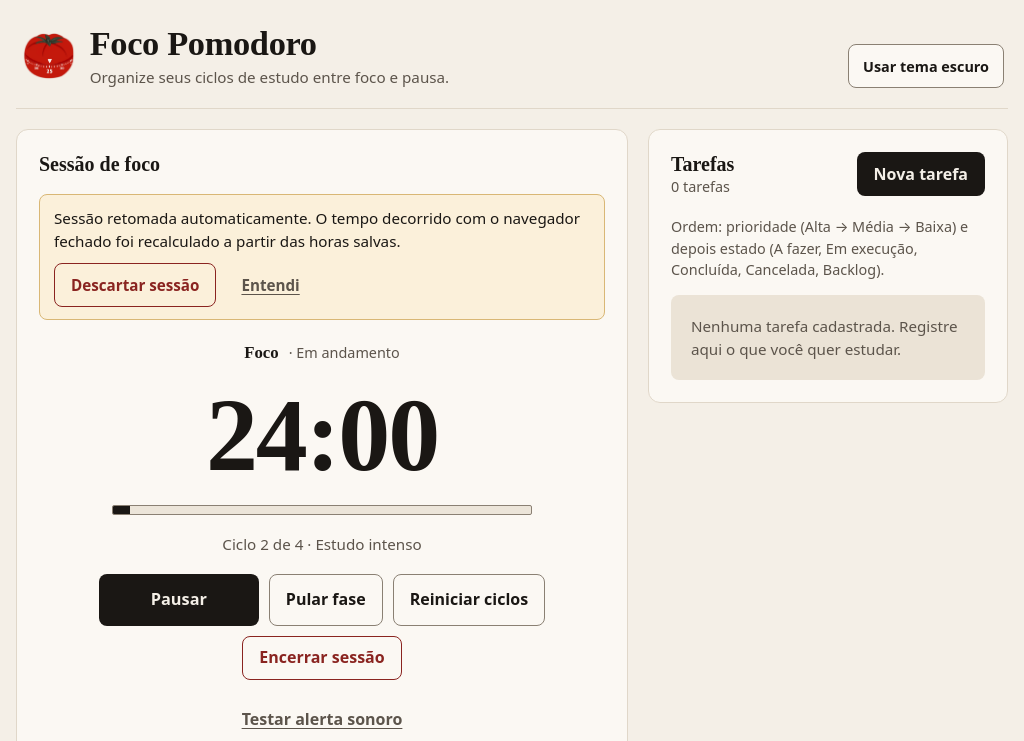
Test: retomada automática e descarte (UC10, UC11, RN-06, RN-07, R-03) › descartar sessão retomada exige confirmação e remove a sessão sem histórico
The image size is (1024, 741).
What coordinates should you click on to do the following:
click the button "Descartar sessão"
I would click on:
 (135, 285)
Its box is left=54, top=263, right=216, bottom=307.
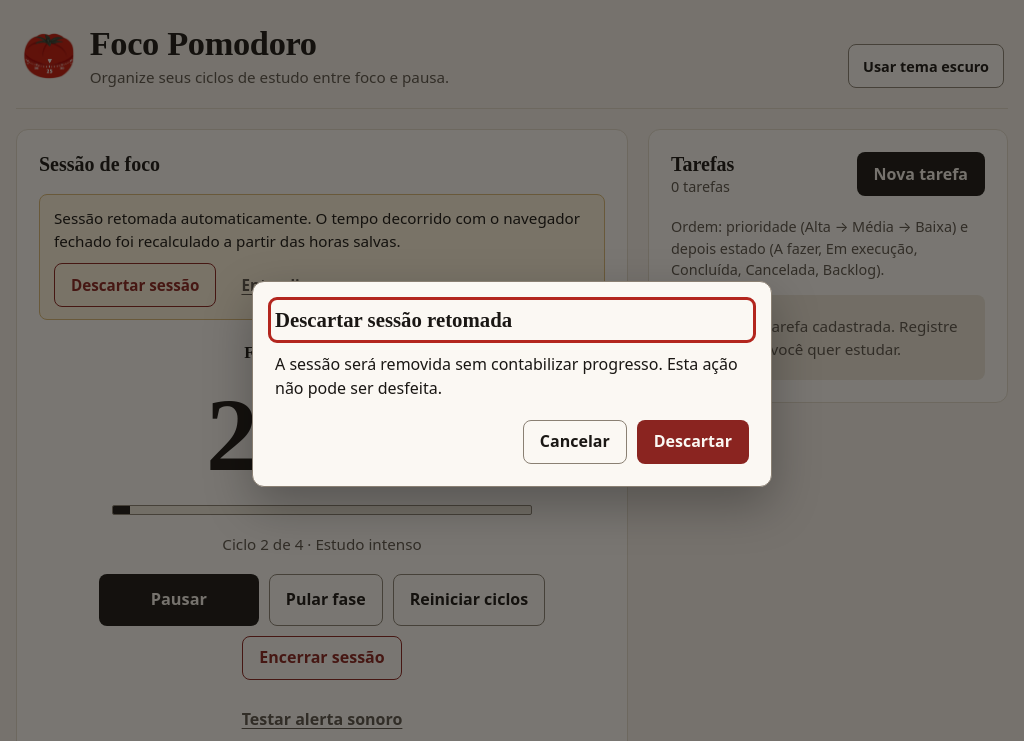
What coordinates should you click on to do the following:
click the button "Descartar"
I would click on:
 (693, 442)
Its box is left=637, top=420, right=749, bottom=464.
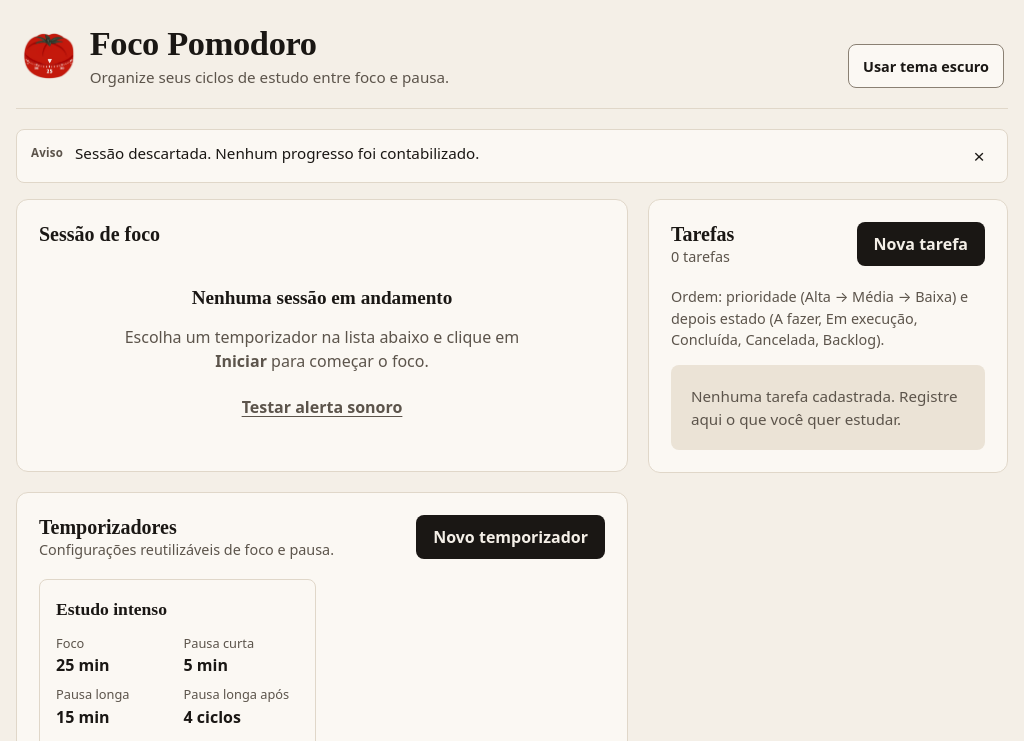
Expected: the text "Nenhuma sessão em andamento" is shown, left=192, top=284, right=452, bottom=313
Expected: the text "Sessão descartada. Nenhum progresso foi contabilizado." is shown, left=75, top=143, right=479, bottom=163
